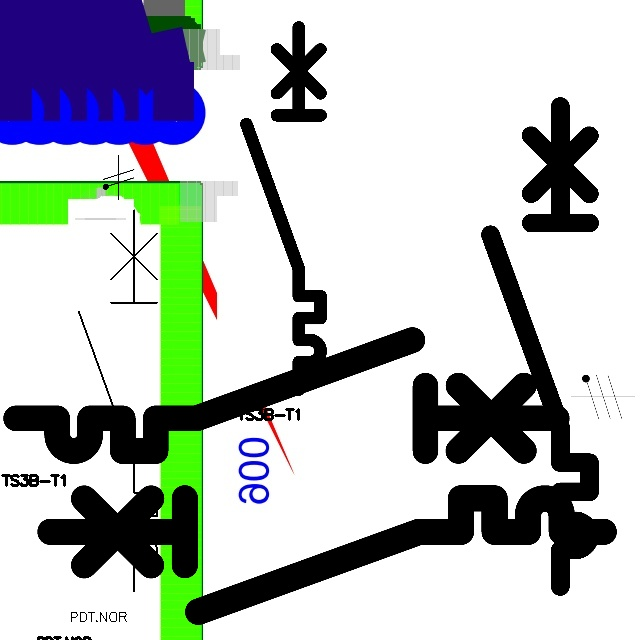interruptor_termomagnetico: (36, 484, 618, 626), (2, 326, 571, 465), (478, 94, 602, 599), (69, 200, 167, 600), (237, 18, 330, 399)
